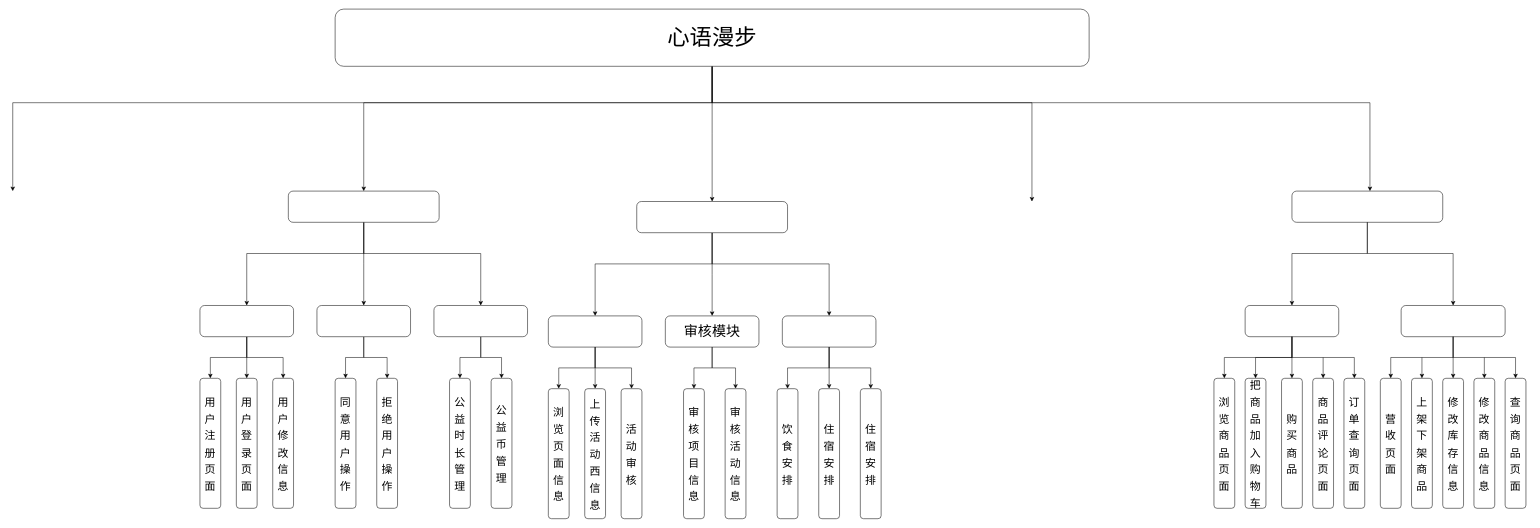
The diagram is 1540 pixels wide and 528 high, and some of its shapes have lost their labels. Each missing label, with the centre of its shape:
"公益福利" goes at (x=480, y=321).
"志愿项目管理平台" goes at (x=712, y=217).
"活动管理" goes at (x=595, y=331).
"用户操作" goes at (x=246, y=321).
"用户管理" goes at (x=829, y=331).
"用户管理平台" goes at (x=363, y=206).
"管理审批" goes at (x=363, y=321).
"管理模块" goes at (x=1453, y=321).
"购买模块" goes at (x=1292, y=321).
"购物平台" goes at (x=1367, y=206).
